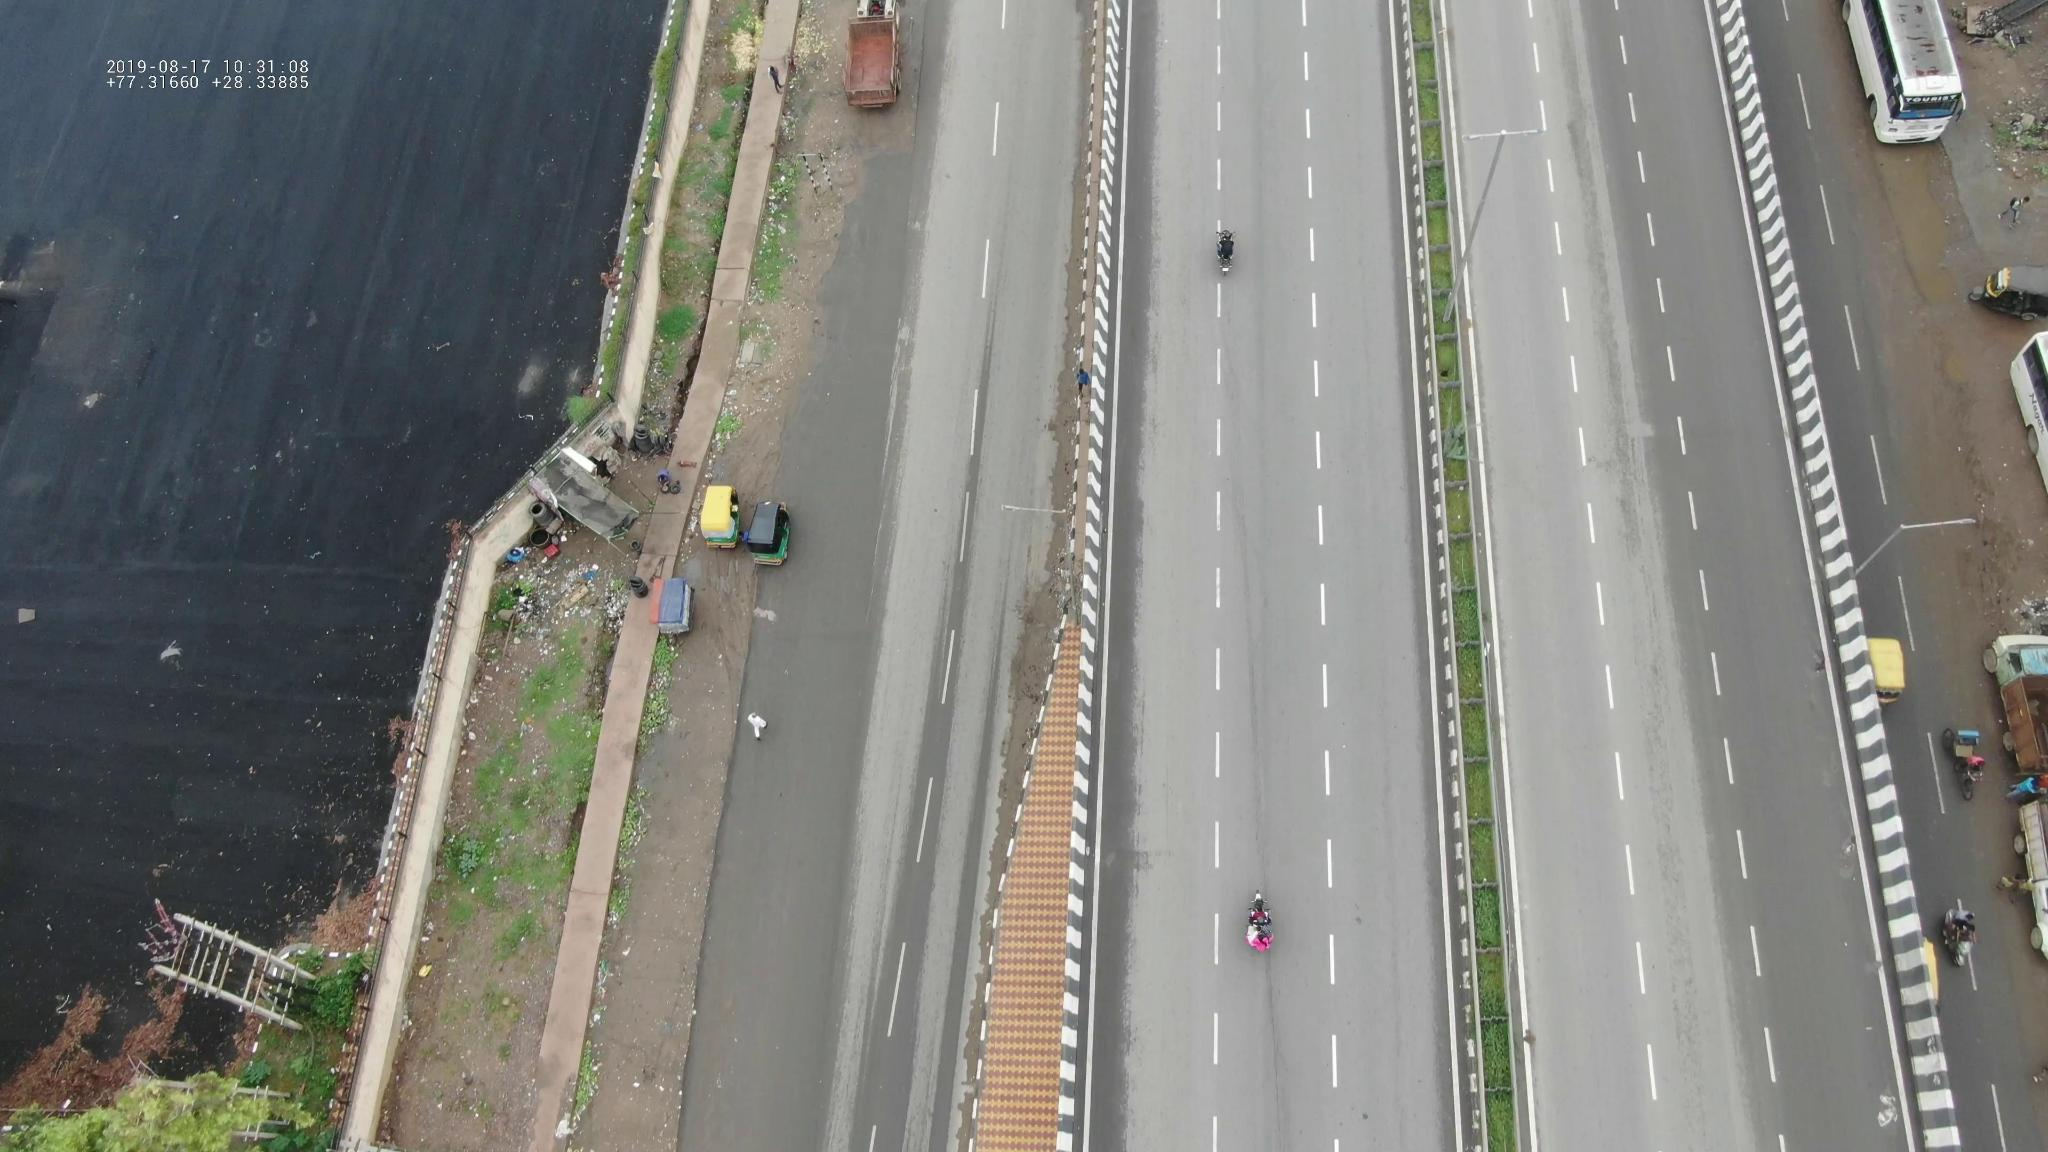Ravelling: (1568, 180, 1639, 488)
Waterlogging: (1872, 145, 1992, 322)
